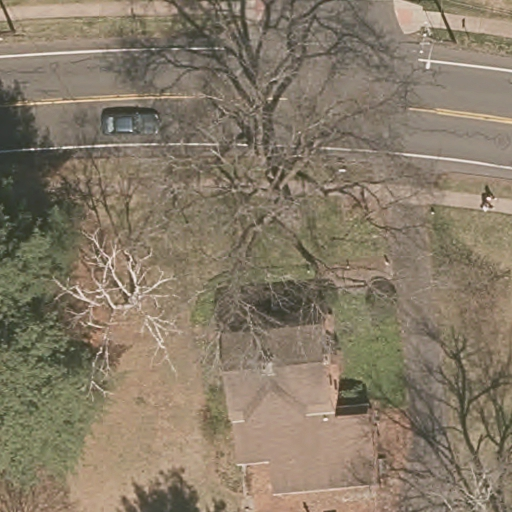DT: (417, 21, 437, 70)
